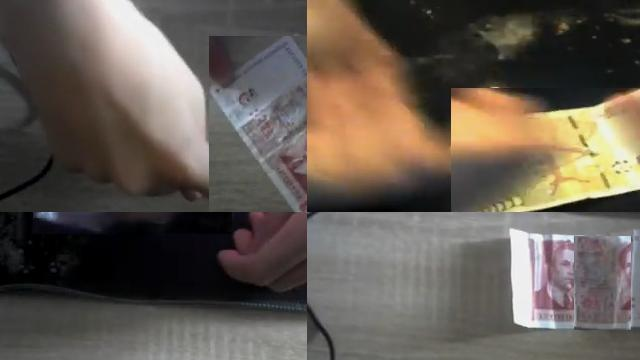10leva: (452, 90, 640, 212)
5leva: (209, 36, 307, 212), (574, 236, 631, 330)
